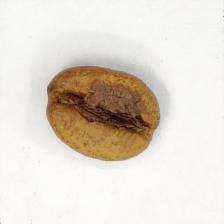NG: (58, 79, 150, 141)
